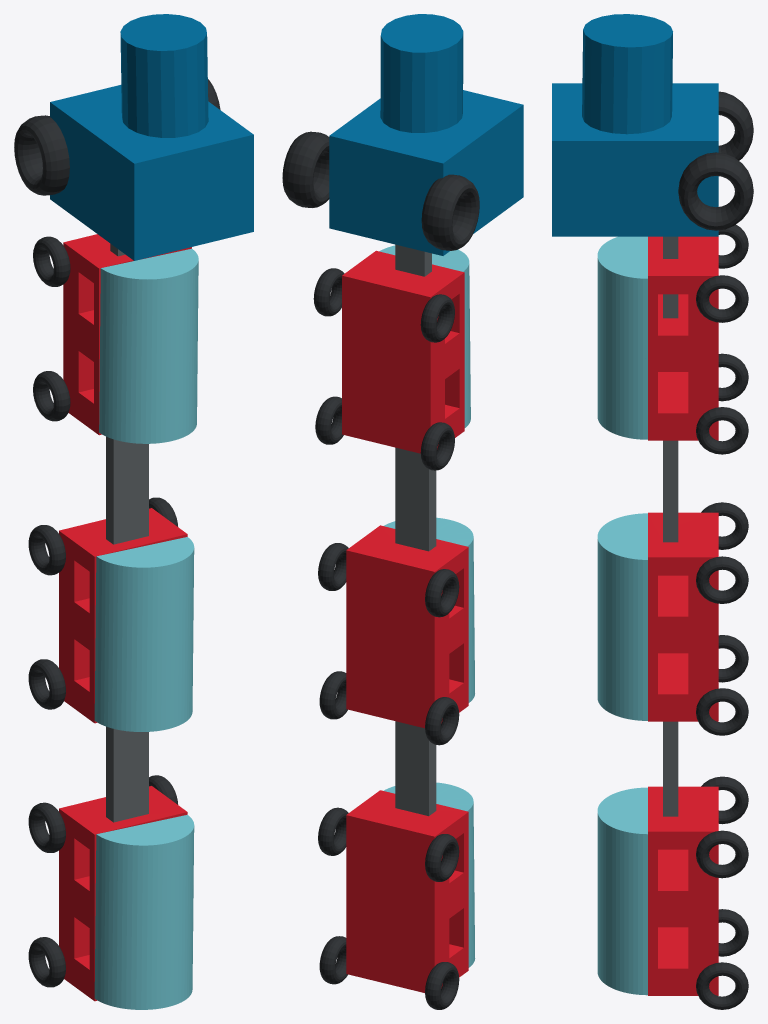
The model's file is tinker.obj.
3 renders of one model, left to right at view 1: azimuth 30°, elevation 25°; view 2: azimuth 150°, elevation 25°; view 3: azimuth 270°, elevation 25°, orthographic. The views are drawn at different scales.
Visible parts, largest first — view 1: group_0_7720667, group_0_30377, group_0_15277357, group_0_2829873, group_0_6383466; view 2: group_0_15277357, group_0_30377, group_0_2829873, group_0_6383466, group_0_7720667; view 3: group_0_15277357, group_0_7720667, group_0_30377, group_0_2829873, group_0_6383466.
Part boxes in pixels (x1,y1,x2,y2): group_0_7720667: (94, 248, 198, 1009); group_0_30377: (50, 14, 253, 260); group_0_15277357: (59, 234, 191, 1001); group_0_2829873: (14, 79, 220, 987); group_0_6383466: (106, 243, 148, 822); group_0_15277357: (342, 250, 468, 992); group_0_30377: (329, 14, 523, 255); group_0_2829873: (282, 131, 479, 1009); group_0_6383466: (395, 244, 436, 816); group_0_7720667: (379, 245, 475, 967); group_0_15277357: (648, 236, 718, 995); group_0_7720667: (597, 236, 647, 995); group_0_30377: (552, 14, 718, 236); group_0_2829873: (678, 91, 753, 1009); group_0_6383466: (663, 236, 678, 816).
Bounding box in the file's own units: 40 × 210 × 40.
